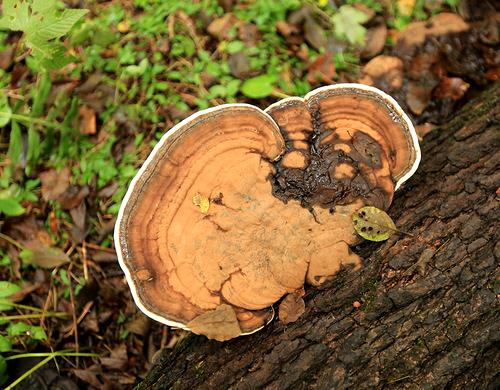Ganoderma - Fruit Body: (118, 83, 422, 342)
